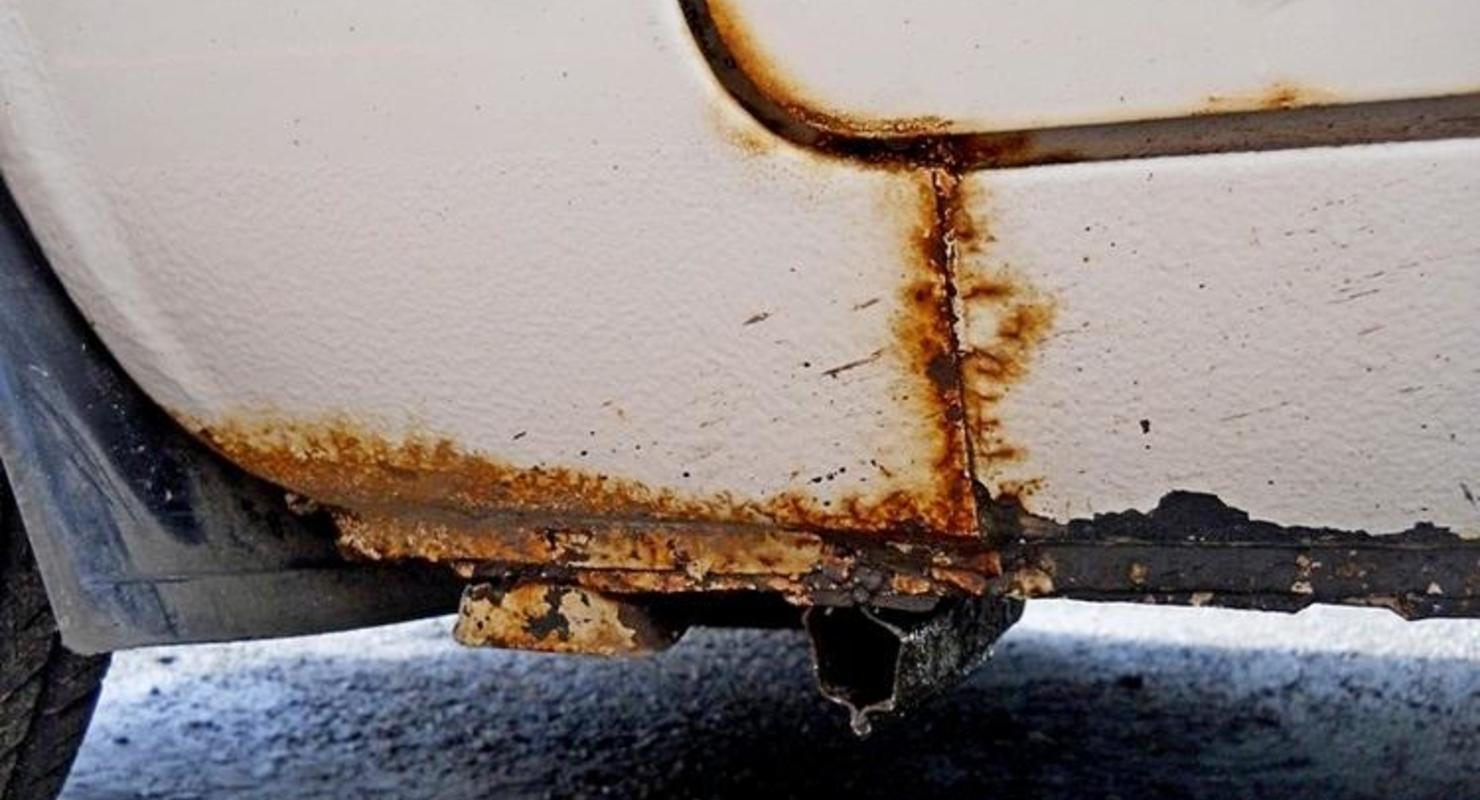corrosion: (144, 383, 1073, 646), (618, 1, 1081, 238), (881, 155, 1052, 549)
